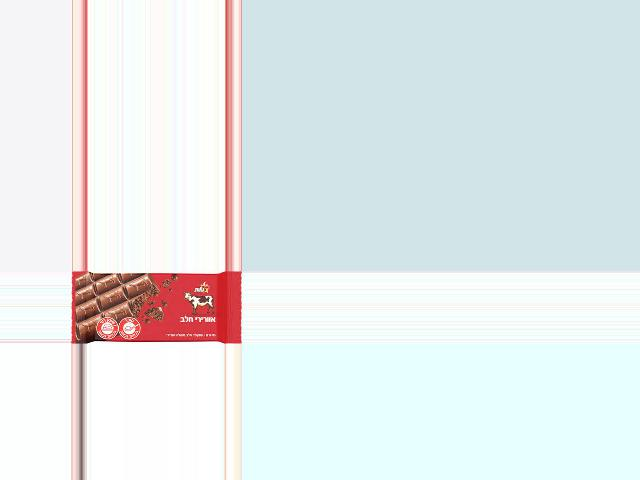chocolate: (71, 272, 239, 344)
